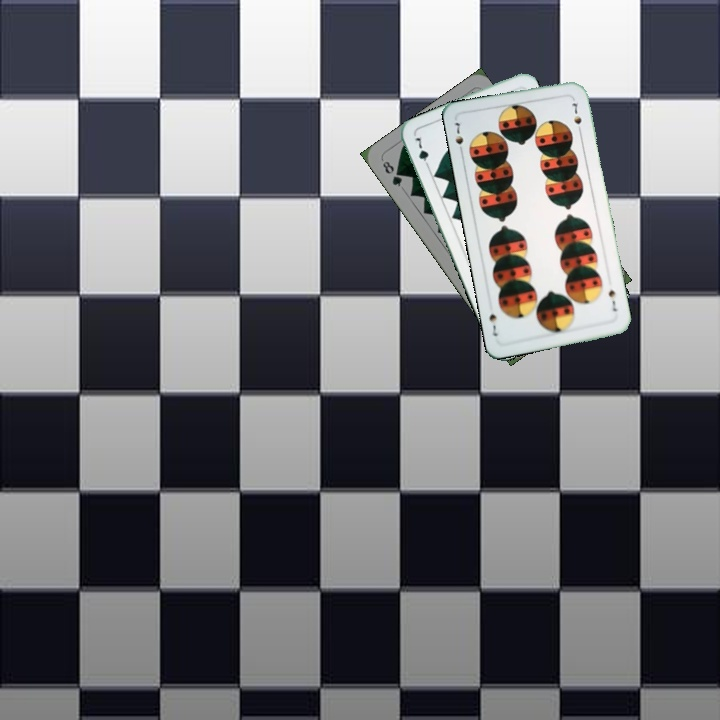G7: (410, 132, 432, 171)
G8: (378, 157, 405, 189)
S7: (450, 118, 466, 157), (604, 286, 619, 314)
